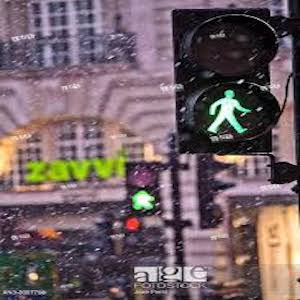green: (206, 86, 252, 135)
